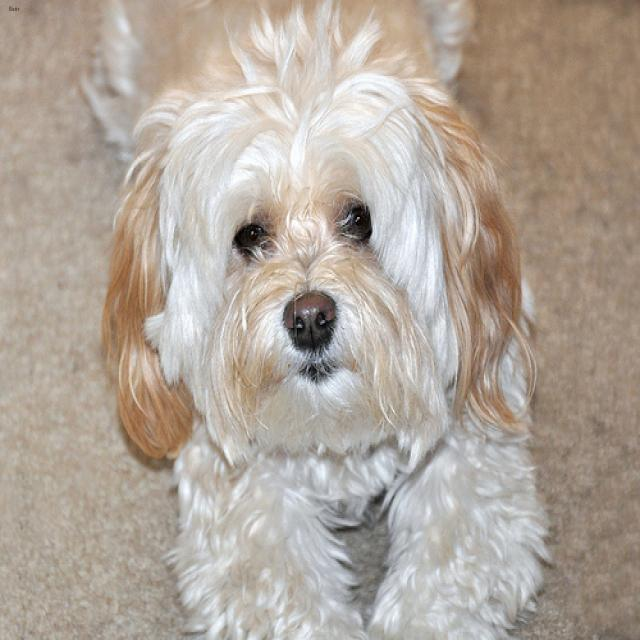dog-havanese: (70, 2, 562, 637)
